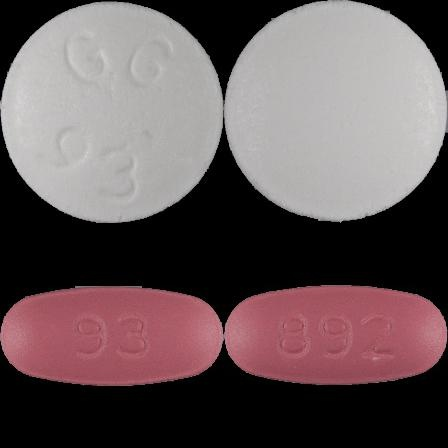43063-407: (0, 0, 224, 224)
